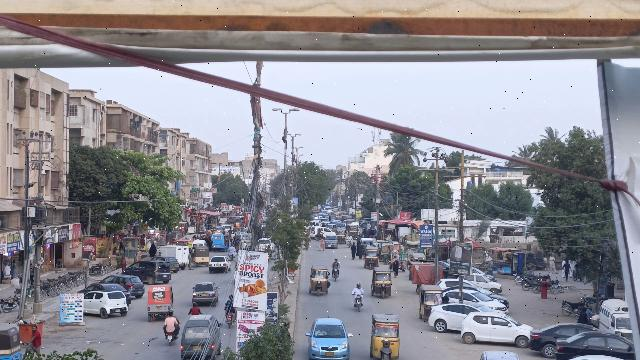Bike: (164, 327, 180, 347), (352, 292, 364, 312), (225, 311, 236, 329), (331, 266, 342, 281)
Car: (459, 309, 532, 348), (554, 328, 632, 360), (529, 320, 594, 355), (306, 316, 353, 360), (428, 300, 485, 333), (84, 290, 128, 322), (126, 260, 172, 286), (103, 271, 145, 297), (190, 281, 220, 307), (208, 254, 230, 275)
Person: (29, 323, 43, 356), (187, 300, 203, 316), (164, 311, 177, 330), (353, 282, 366, 298), (185, 248, 194, 271), (330, 257, 341, 269), (227, 294, 235, 310)
Rickshaw: (368, 311, 400, 360), (146, 283, 176, 320), (418, 282, 444, 322), (370, 265, 394, 299), (308, 265, 331, 296), (362, 245, 380, 269), (191, 245, 210, 267)
Suzuki: (599, 296, 630, 337)
Truck: (159, 243, 190, 267)
Van: (179, 314, 224, 360)
